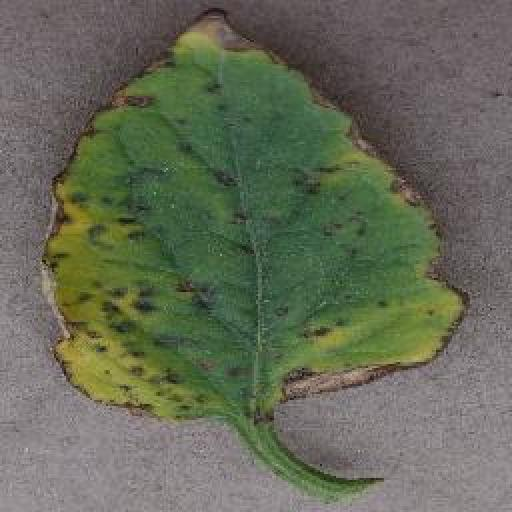Bacterial Spot: (31, 5, 475, 498)
